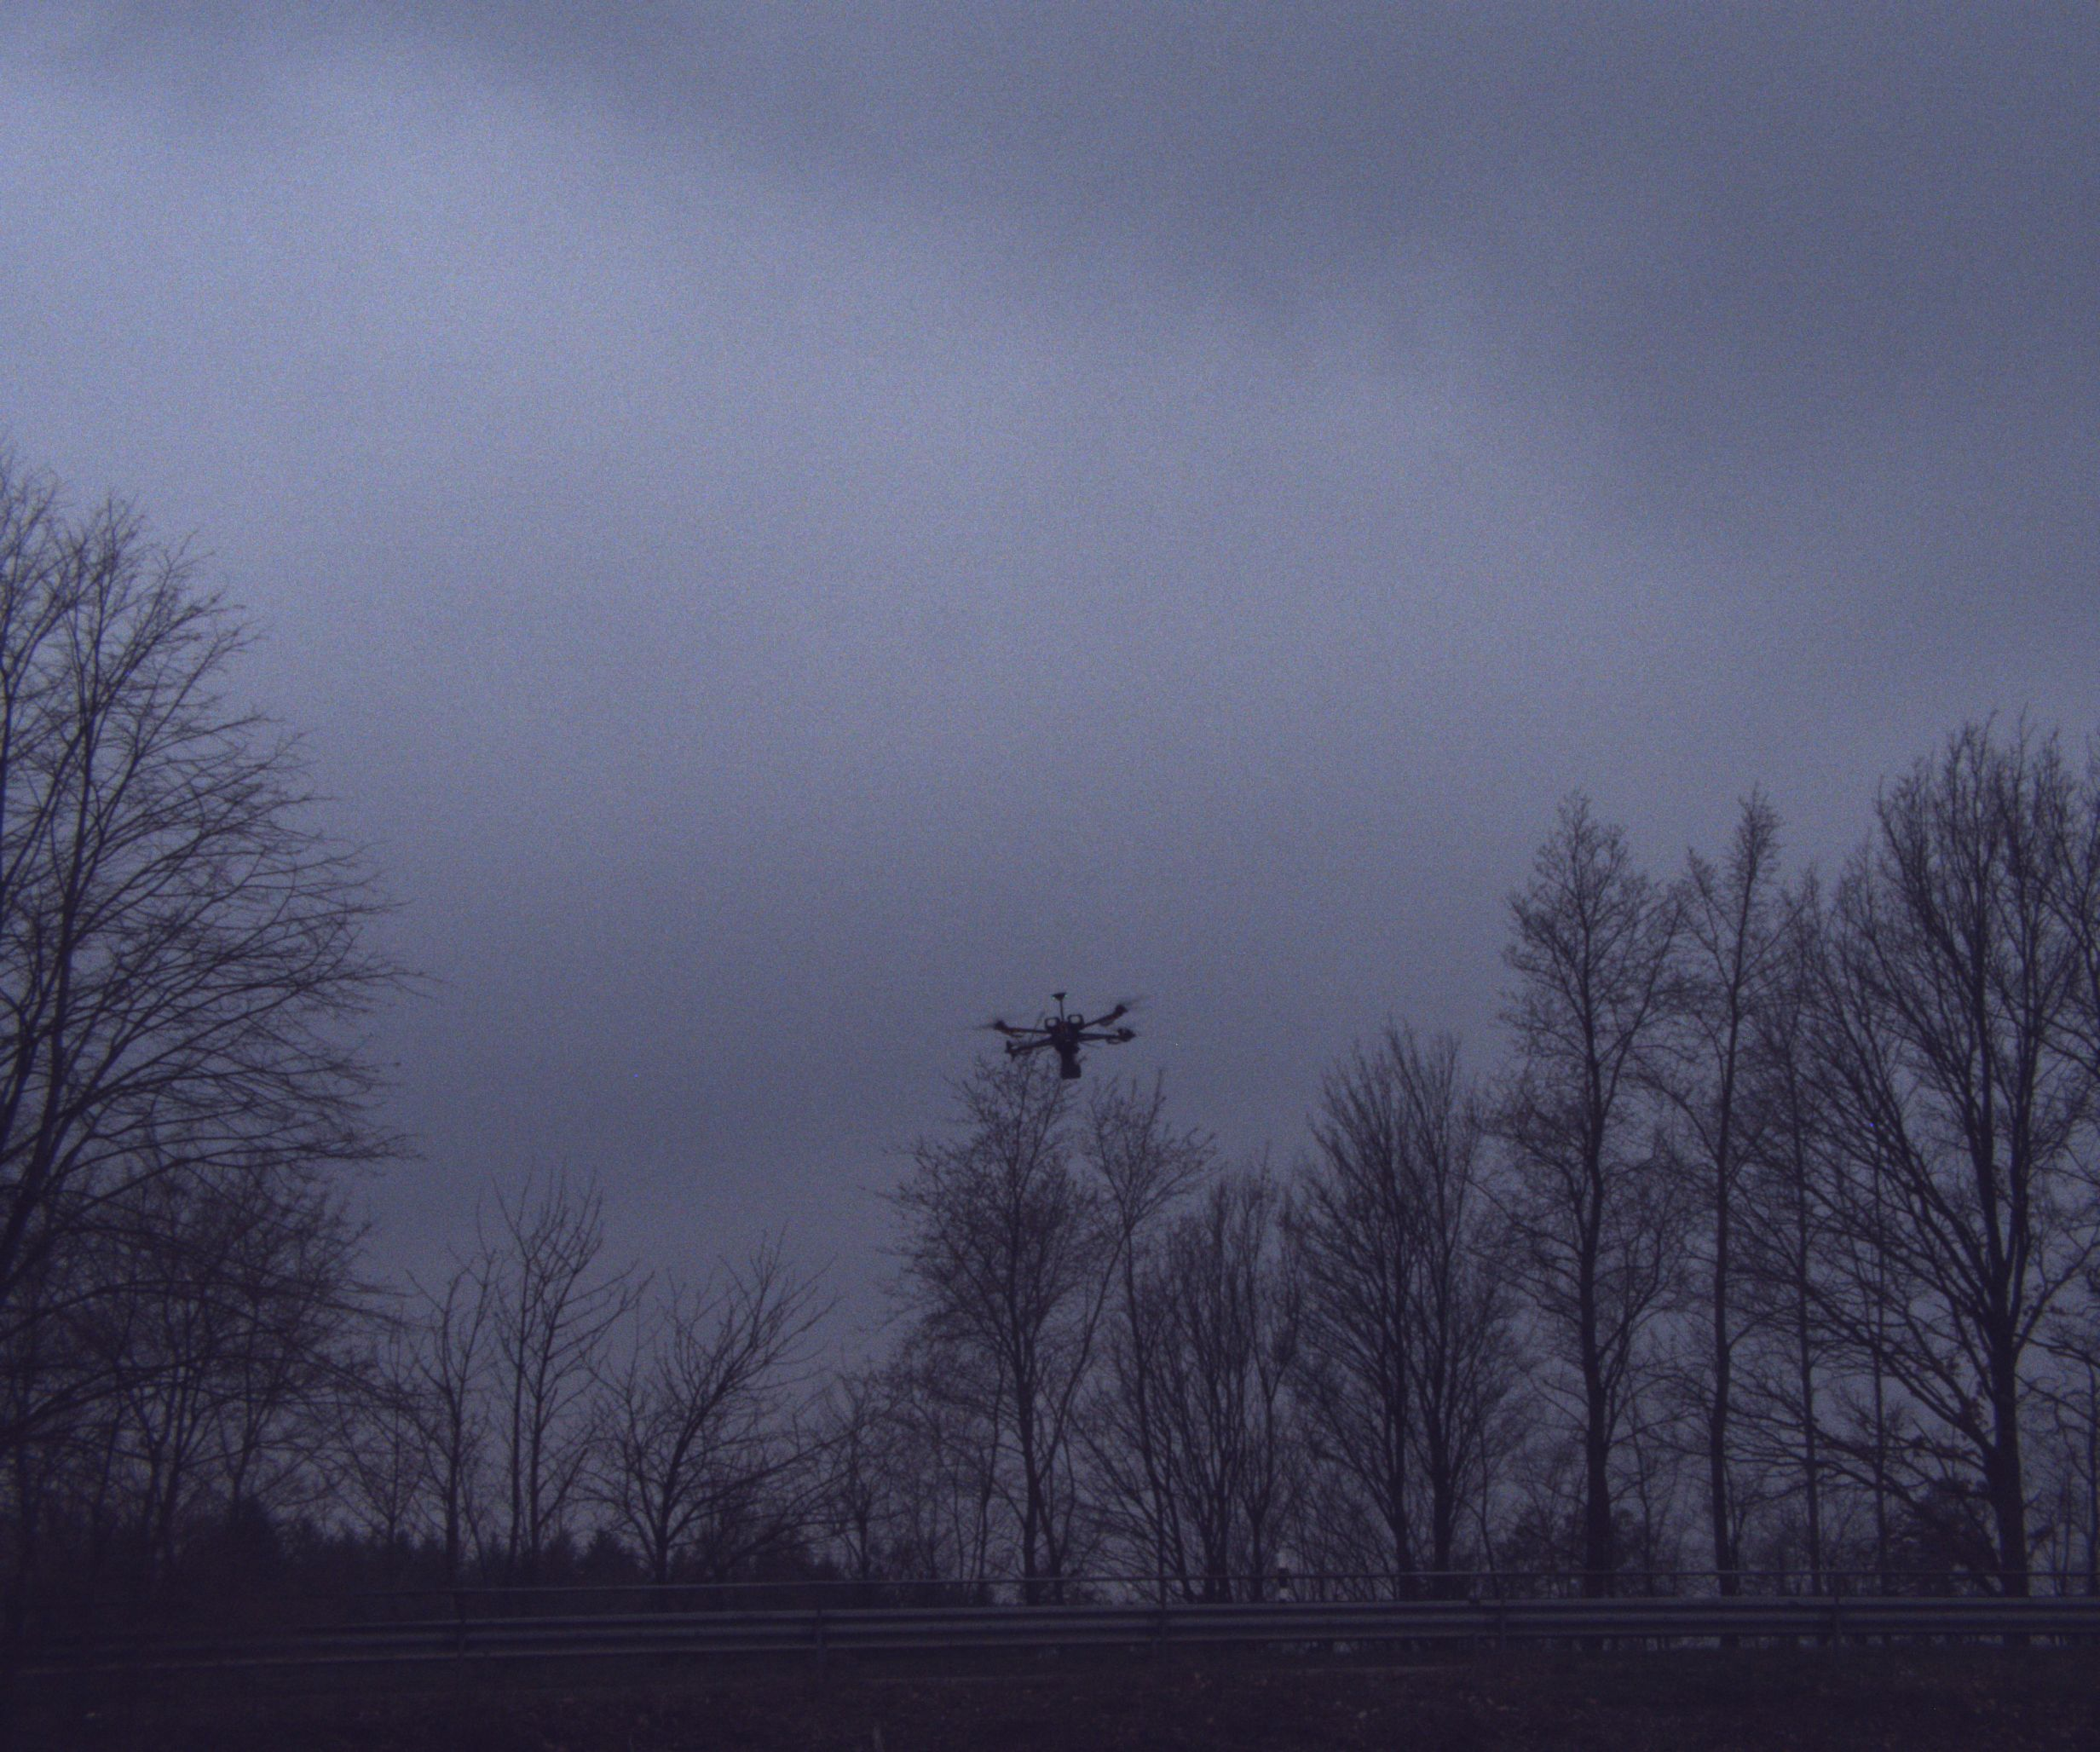Drohne: (968, 971, 1191, 1144)
